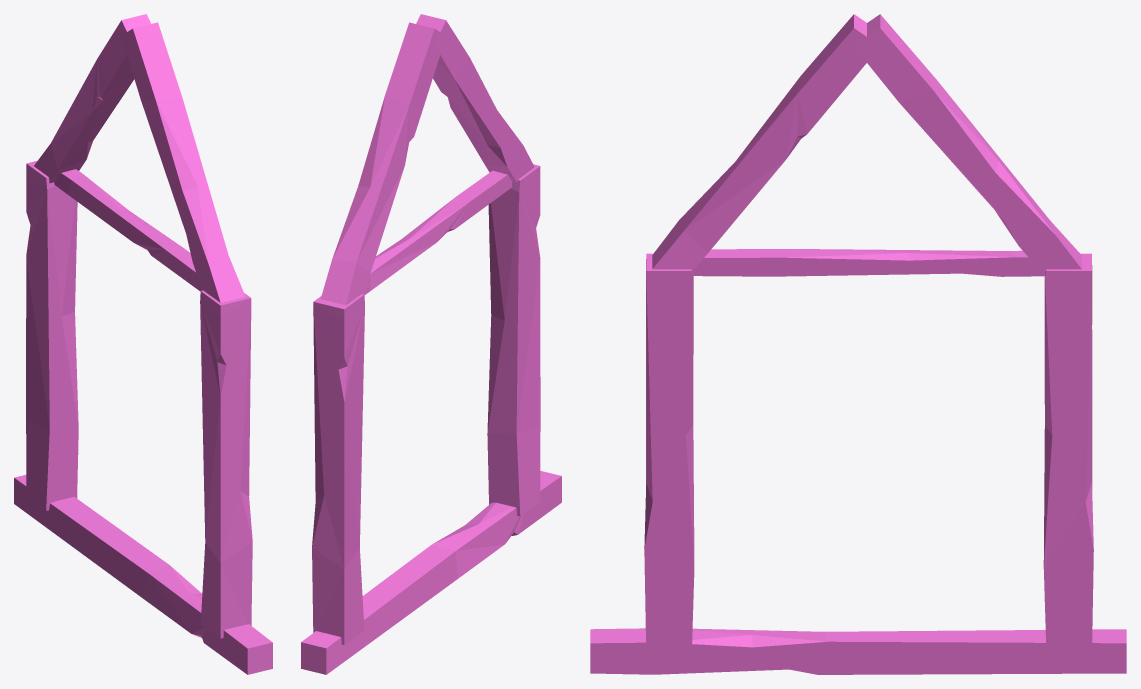
Rendered from SM_Skyway_Covered_Support_Fantasy.fbx.
3 views of the same model, side by side, from view 1: azimuth 30°, elevation 25°; view 2: azimuth 150°, elevation 25°; view 3: azimuth 270°, elevation 25° (orthographic). The views are drawn at different scales.
Parts seen in each view (by area): view 1: SM_Skyway_Covered_Support_Fantasy; view 2: SM_Skyway_Covered_Support_Fantasy; view 3: SM_Skyway_Covered_Support_Fantasy.
Part boxes in pixels (<box>): SM_Skyway_Covered_Support_Fantasy: <box>14,14,272,674</box>; SM_Skyway_Covered_Support_Fantasy: <box>301,14,561,674</box>; SM_Skyway_Covered_Support_Fantasy: <box>590,14,1126,674</box>.
Bounding box in the file's own units: 0.3123 × 5.35 × 4.02.
